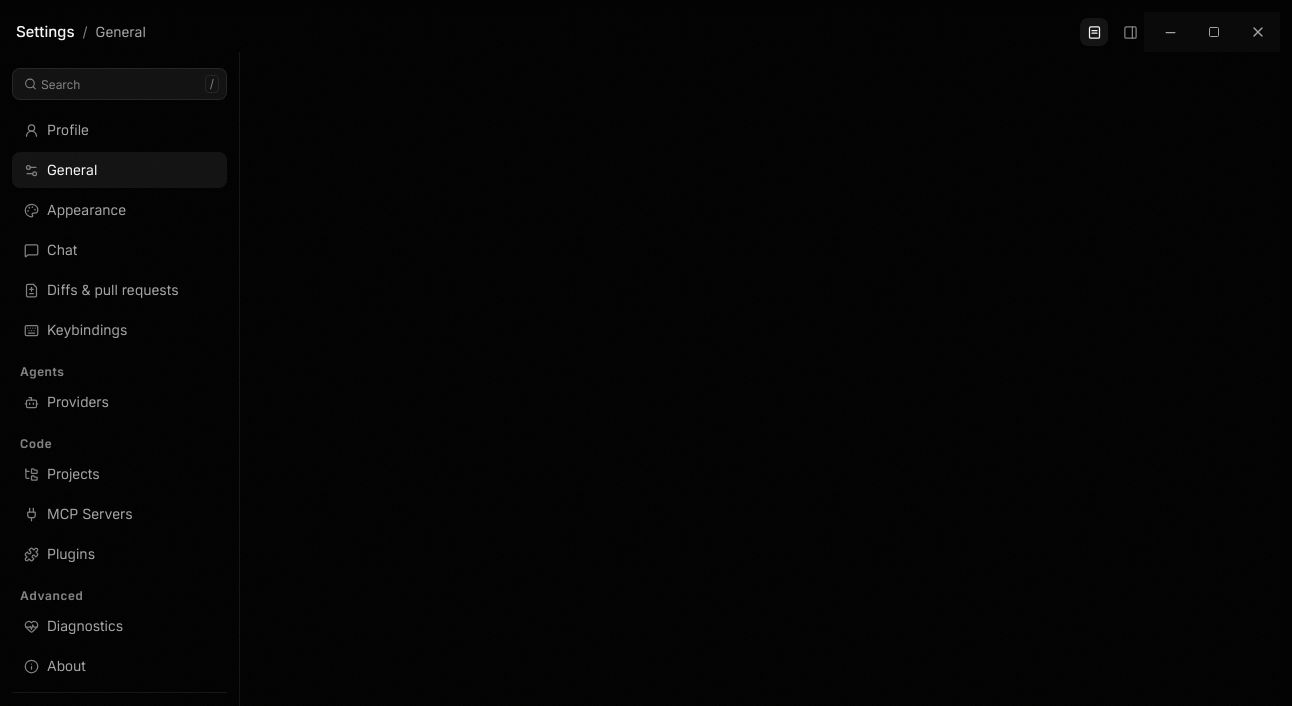
Test: settings pages › filters SettingsLayout nav items via the search input
expect the link "General" is shown: met, box top-left (12, 152), bottom-right (227, 188)
expect the link "Appearance" is shown: met, box top-left (24, 201), bottom-right (126, 218)
Step 1. Type "appear" into the field named "Search settings" → (120, 84), box top-left (12, 68), bottom-right (227, 100)
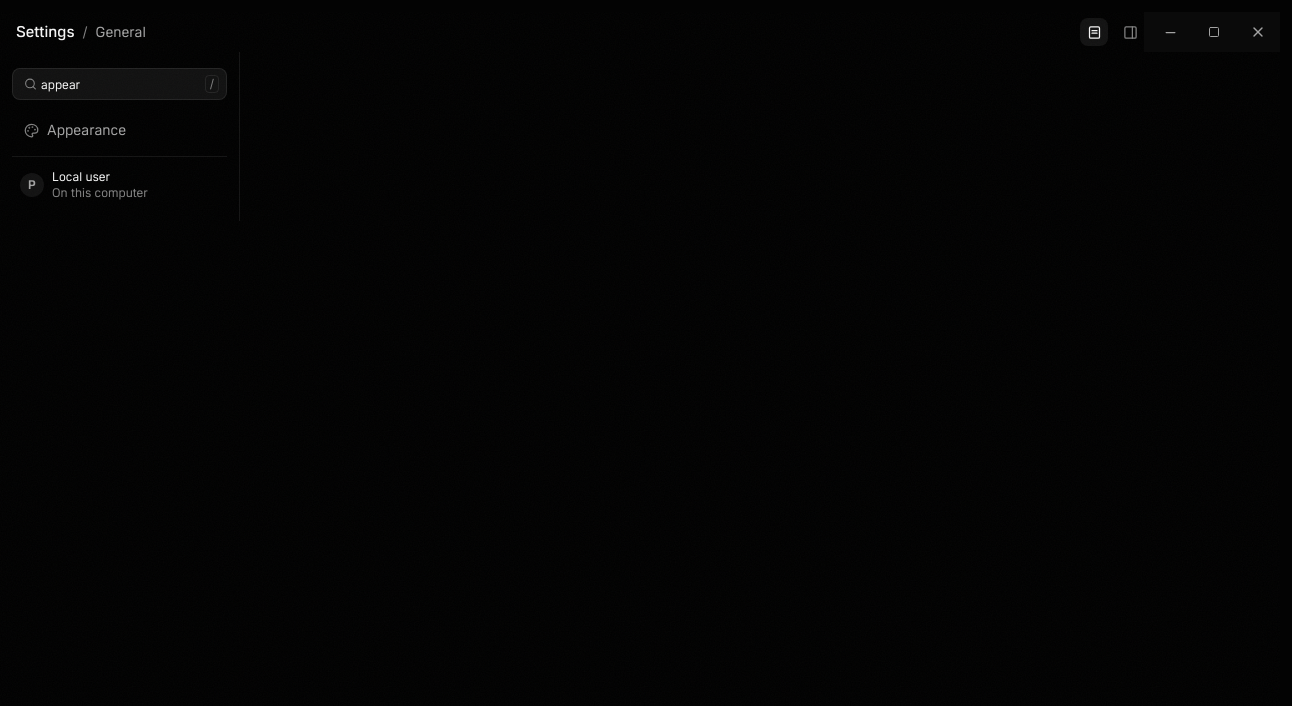
expect the link "Appearance" is shown: met, box top-left (24, 121), bottom-right (126, 138)
expect the link "Providers" is gone: met
Step 2. Replace the text in the field named "Search settings" with "zzzz" → (120, 84), box top-left (12, 68), bottom-right (227, 100)
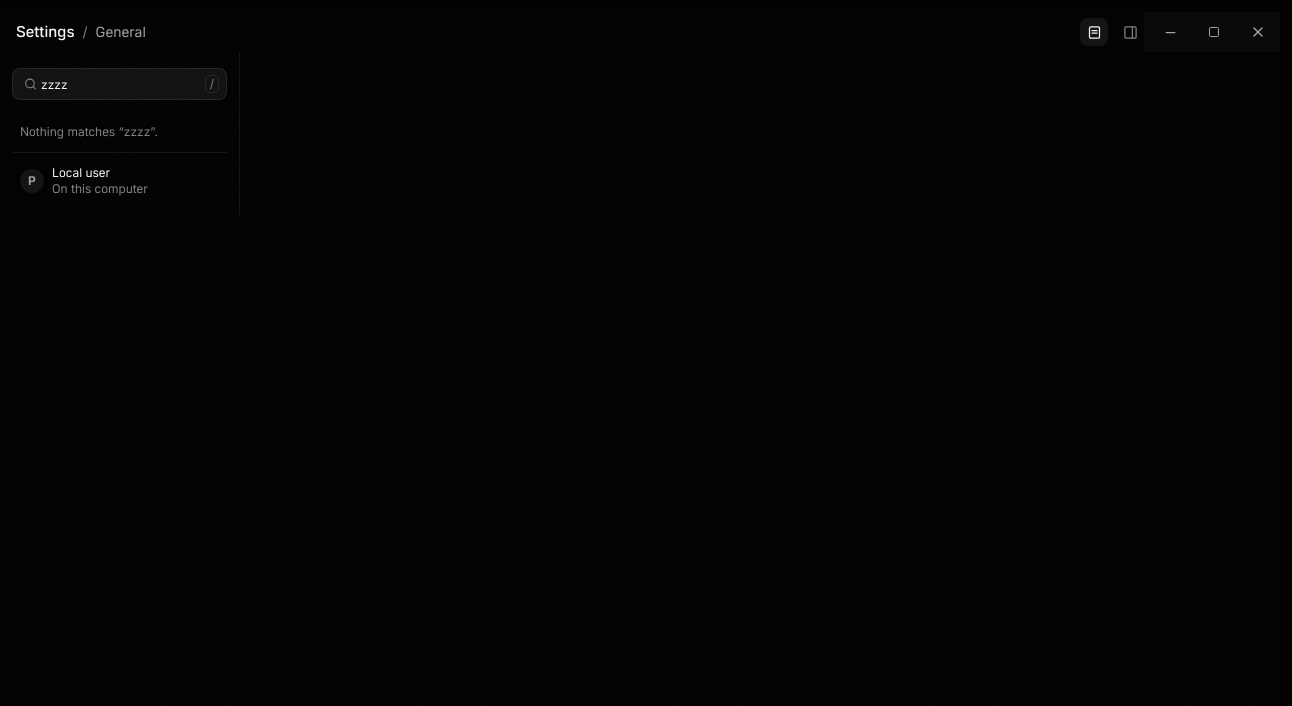
expect the text "Nothing matches “zzzz”." is shown: met, box top-left (20, 124), bottom-right (158, 139)
expect the link "Appearance" is gone: met
